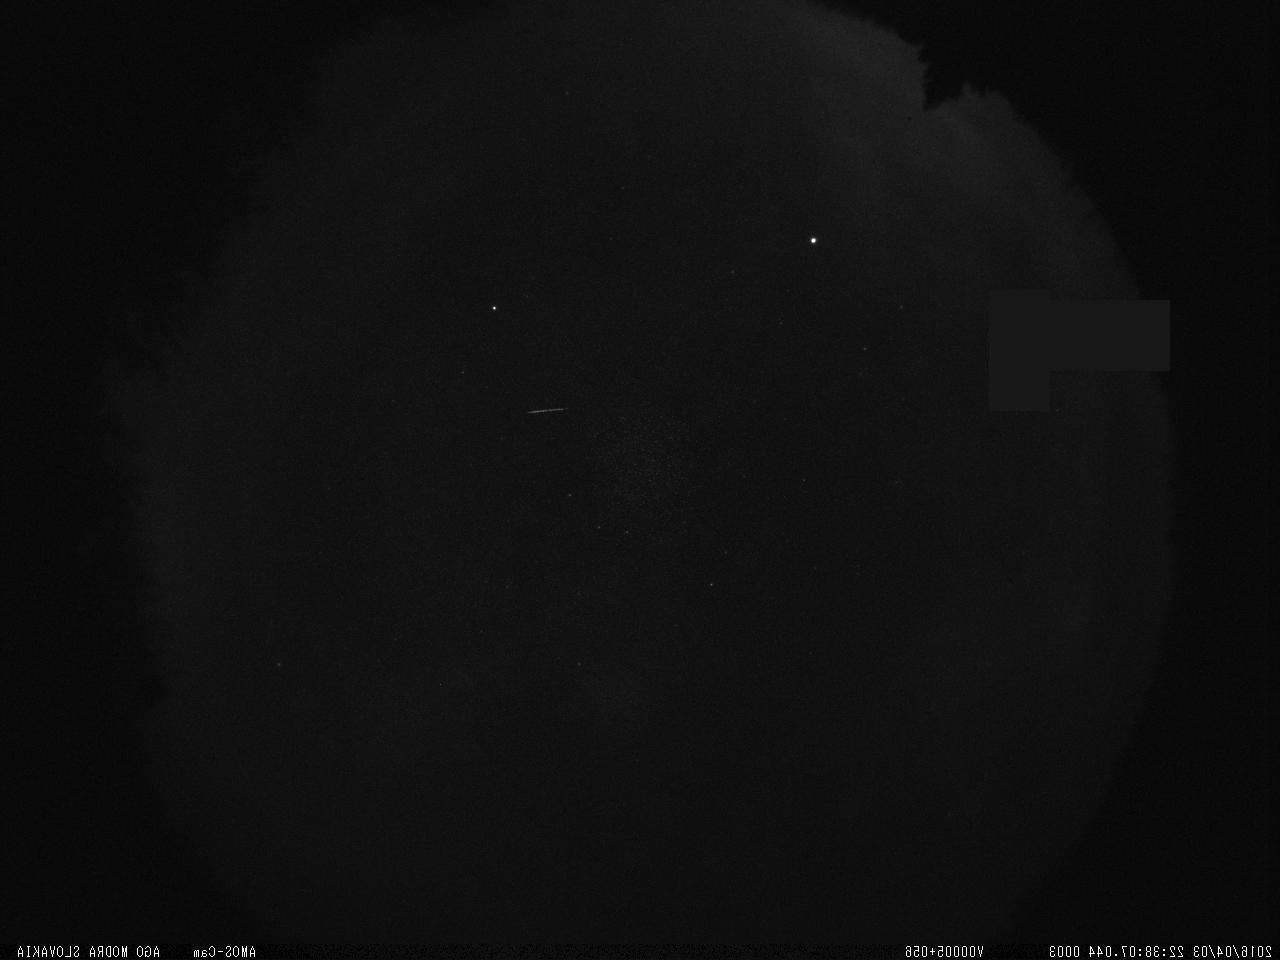meteor: (519, 401, 574, 422)
